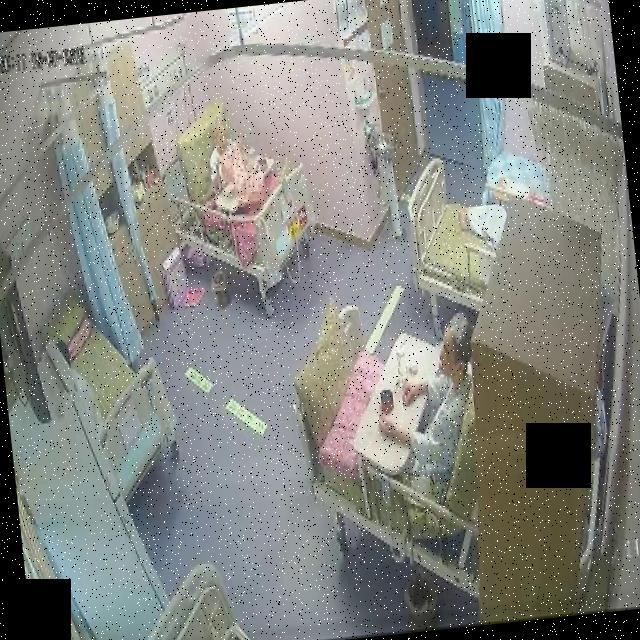bed: (290, 299, 492, 582), (46, 276, 183, 508), (162, 119, 320, 284), (399, 148, 510, 314)
patient: (366, 312, 484, 503), (202, 116, 248, 191)
sit: (305, 310, 487, 512), (203, 113, 278, 218)
